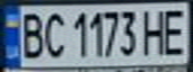1: (66, 8, 87, 57), (87, 8, 106, 57)
3: (118, 7, 142, 56)
7: (103, 8, 121, 56)
B: (15, 9, 48, 60)
C: (39, 8, 69, 59)
E: (160, 4, 193, 56)
H: (139, 6, 172, 56)
